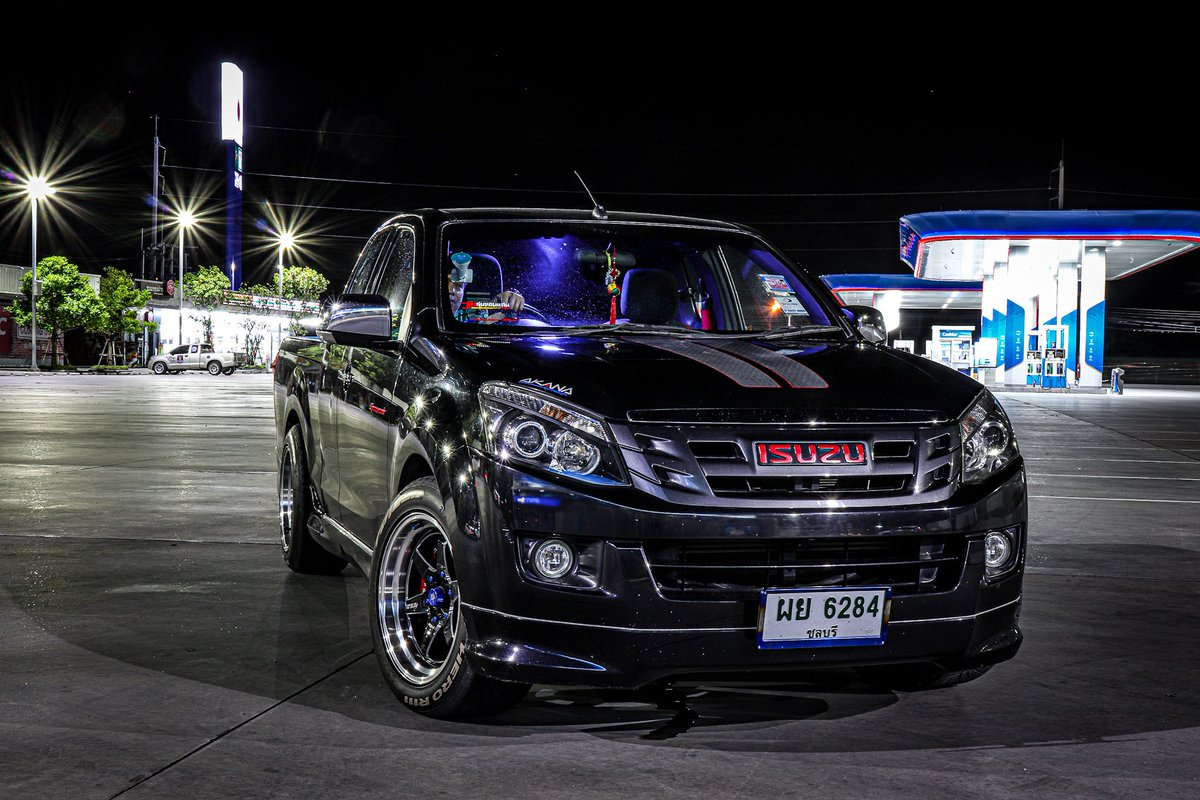pickup: (267, 206, 1034, 740)
